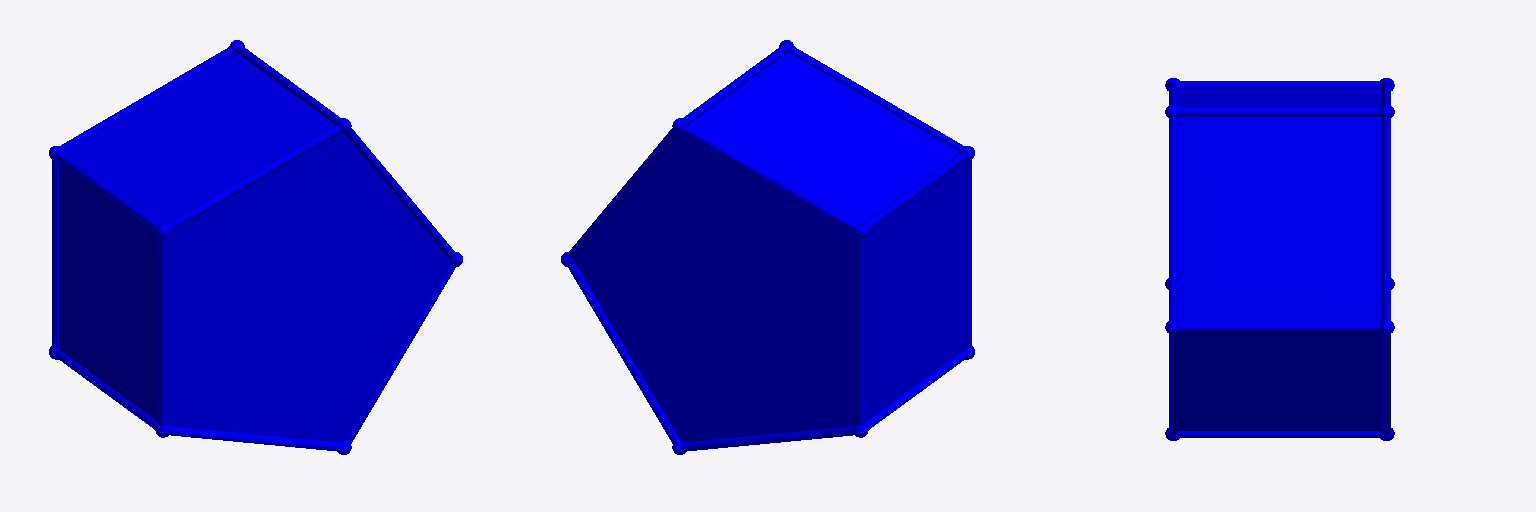
Rendered from pent_blue.obj.
The picture shows the model from 3 angles: view 1: azimuth 30°, elevation 25°; view 2: azimuth 150°, elevation 25°; view 3: azimuth 270°, elevation 25°; orthographic projection.
Parts seen in each view (by area): view 1: pent; view 2: pent; view 3: pent.
Part boxes in pixels (x1,y1,x2,y2): pent: (49, 40, 462, 454); pent: (561, 40, 974, 454); pent: (1165, 78, 1394, 440).
Size of the model in its own units: 8.57 by 9 by 5.58.